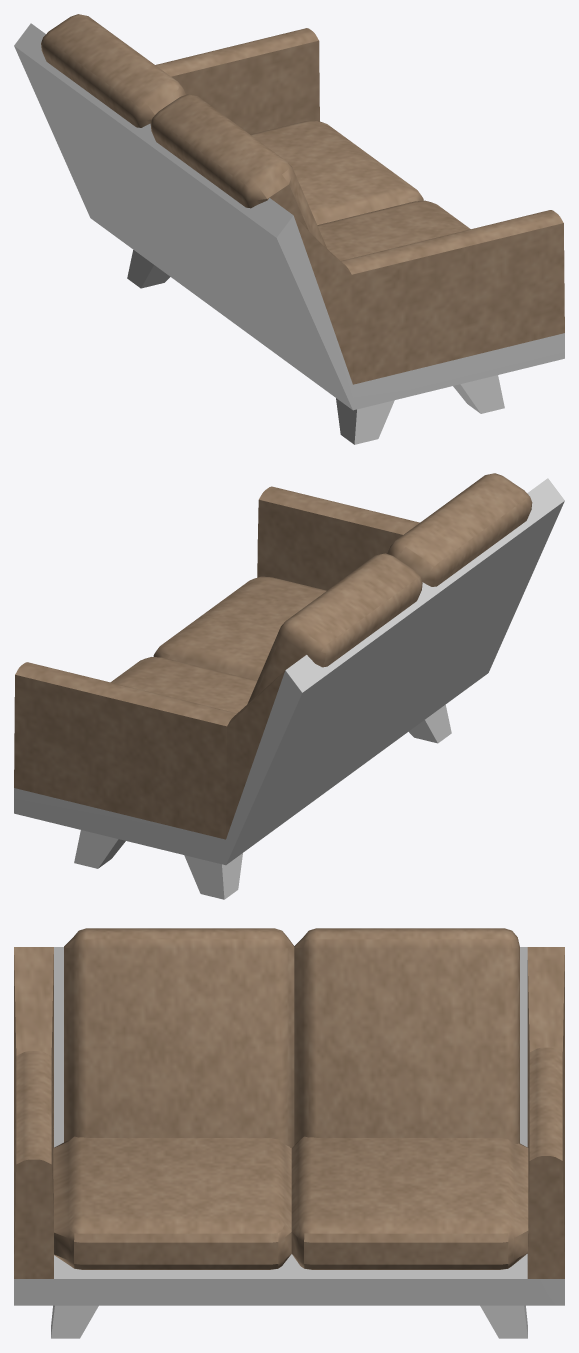
Rendered from couch 2.fbx.
The picture shows the model from 3 angles, top to bottom: view 1: azimuth 30°, elevation 25°; view 2: azimuth 150°, elevation 25°; view 3: azimuth 270°, elevation 25°; orthographic projection. The views are drawn at different scales.
Visible parts, largest first — view 1: Cube.006; view 2: Cube.006; view 3: Cube.006.
Boxes of the visible parts, x1,y1,x2,y2 form: Cube.006: (14, 14, 564, 444); Cube.006: (14, 473, 564, 899); Cube.006: (14, 928, 564, 1338).
Size of the model in its own units: 531 by 502 by 837.
